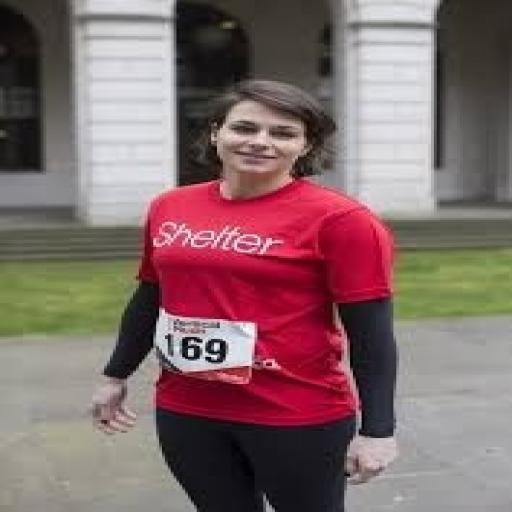running: (87, 78, 405, 510)
